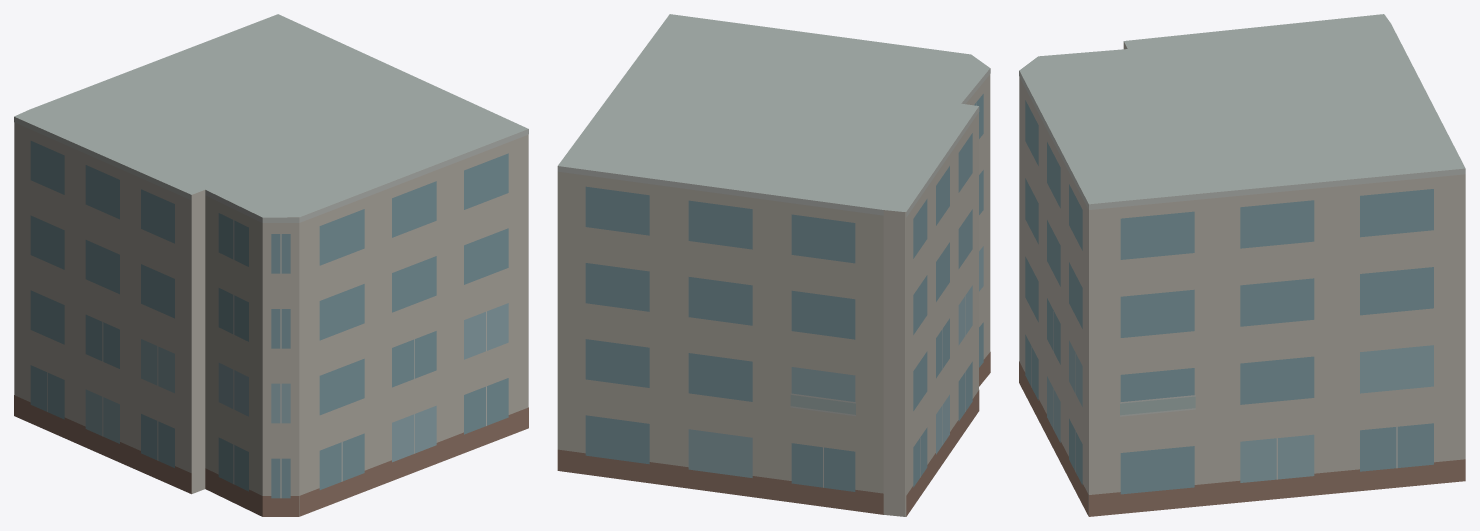
Rendered from survey-upis-32985756.glb.
3 renders of one model, left to right at view 1: azimuth 30°, elevation 25°; view 2: azimuth 150°, elevation 25°; view 3: azimuth 270°, elevation 25°, orthographic. The views are drawn at different scales.
Visible parts, largest first — view 1: survey-upis-32985756.tmp; view 2: survey-upis-32985756.tmp; view 3: survey-upis-32985756.tmp.
Boxes of the visible parts, <box> form: survey-upis-32985756.tmp: <box>14,14,528,516</box>; survey-upis-32985756.tmp: <box>557,14,990,516</box>; survey-upis-32985756.tmp: <box>1019,14,1465,516</box>.
Size of the model in its own units: 17.18 by 13.15 by 17.03.
